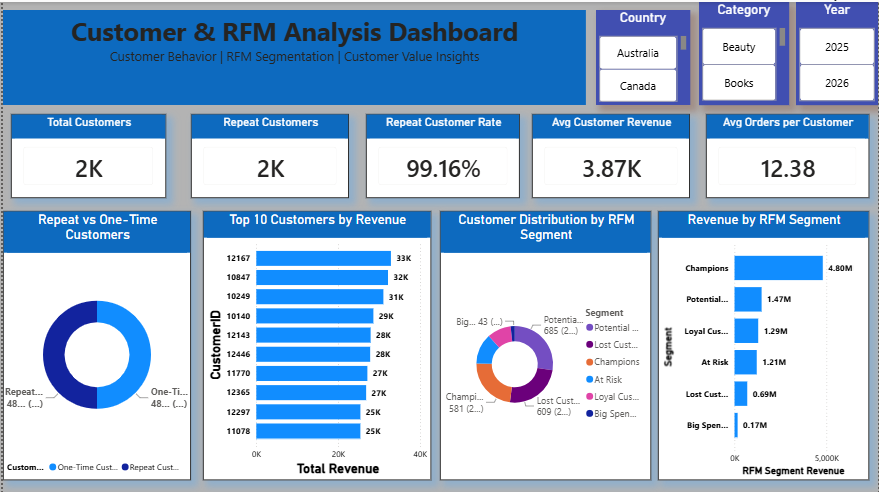

This screenshot's page, from the dashboard's own definition file:
{"tool":"powerbi","page":{"name":"Page 2","canvas":[1280,720],"ordinal":1},"visuals":[{"type":"textbox","box":[0,0,853.2,139],"z":0},{"type":"advancedSlicerVisual","fields":{"Values":["ecommerce_sales_cleaned.Country"]},"box":[867.8,0,137.6,139],"z":4},{"type":"advancedSlicerVisual","fields":{"Values":["ecommerce_sales_cleaned.Category"]},"box":[1018.5,0,131.7,139],"z":5},{"type":"advancedSlicerVisual","fields":{"Values":["ecommerce_sales_cleaned.InvoiceDate.Variation.Date Hierarchy.Year"]},"box":[1160.5,0,120,139],"z":6},{"type":"cardVisual","title":"Total Customers","fields":{"Data":["ecommerce_sales_cleaned.Total Customers"]},"box":[11.7,163.9,226.8,122.9],"z":7},{"type":"cardVisual","title":"Repeat Customer Rate","fields":{"Data":["ecommerce_sales_cleaned.Repeat Customer Rate"]},"box":[531.2,163.9,225.4,122.9],"z":8},{"type":"cardVisual","title":"Repeat Customers","fields":{"Data":["ecommerce_sales_cleaned.Repeat Customers"]},"box":[275.1,163.9,231.2,122.9],"z":9},{"type":"cardVisual","title":"Avg Customer Revenue","fields":{"Data":["ecommerce_sales_cleaned.Avg Customer Revenue"]},"box":[774.1,163.9,231.2,122.9],"z":10},{"type":"cardVisual","title":"Avg Orders per Customer","fields":{"Data":["ecommerce_sales_cleaned.Avg Orders per Customer"]},"box":[1028.8,163.9,238.5,122.9],"z":11},{"type":"donutChart","title":"Repeat vs One-Time Customers","fields":{"Category":["Customer_Summary.Customer_Type"],"Y":["CountNonNull(ecommerce_sales_cleaned.CustomerID)"]},"box":[0,305.9,275.1,393.7],"z":12},{"type":"clusteredBarChart","title":"Top 10 Customers by Revenue","fields":{"Category":["ecommerce_sales_cleaned.CustomerID"],"Y":["ecommerce_sales_cleaned.Total Revenue"]},"box":[292.7,305.9,333.7,393.7],"z":13},{"type":"donutChart","title":"Customer Distribution by RFM Segment","fields":{"Category":["RFM_Analysis.Segment"],"Y":["CountNonNull(RFM_Analysis.CustomerID)"]},"box":[639.5,305.9,308.8,393.7],"z":14},{"type":"clusteredBarChart","title":"Revenue by RFM Segment","fields":{"Category":["RFM_Analysis.Segment"],"Y":["RFM_Analysis.RFM Segment Revenue"]},"box":[958.5,305.9,308.8,393.7],"z":15}]}

Visuals, with their boxes in screenshot pixels (x1, y1, x2, y2), scaled from the page's 1280x720 canvas onto the 879x492 screenshot:
textbox: [0, 0, 586, 95]
advancedSlicerVisual - ecommerce_sales_cleaned.Country: [596, 0, 690, 95]
advancedSlicerVisual - ecommerce_sales_cleaned.Category: [699, 0, 790, 95]
advancedSlicerVisual - ecommerce_sales_cleaned.InvoiceDate.Variation.Date Hierarchy.Year: [797, 0, 878, 95]
"Total Customers" cardVisual: [8, 112, 164, 196]
"Repeat Customer Rate" cardVisual: [365, 112, 520, 196]
"Repeat Customers" cardVisual: [189, 112, 348, 196]
"Avg Customer Revenue" cardVisual: [532, 112, 690, 196]
"Avg Orders per Customer" cardVisual: [706, 112, 870, 196]
"Repeat vs One-Time Customers" donutChart: [0, 209, 189, 478]
"Top 10 Customers by Revenue" clusteredBarChart: [201, 209, 430, 478]
"Customer Distribution by RFM Segment" donutChart: [439, 209, 651, 478]
"Revenue by RFM Segment" clusteredBarChart: [658, 209, 870, 478]
